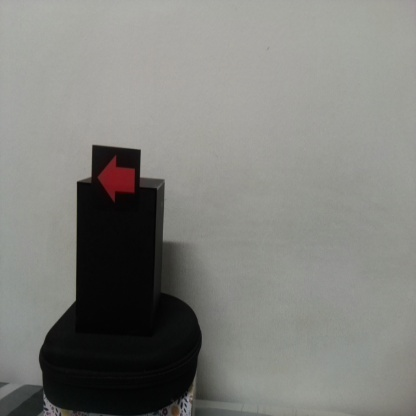id_4: (92, 147, 141, 211)
